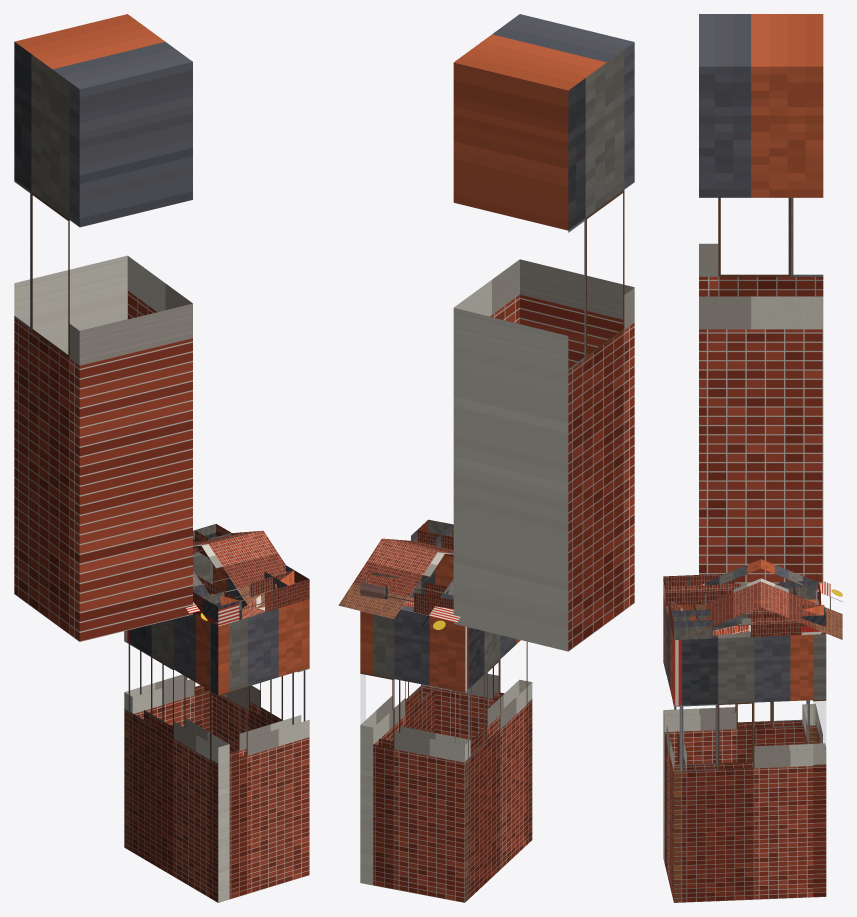
3 renders of one model, left to right at view 1: azimuth 30°, elevation 25°; view 2: azimuth 150°, elevation 25°; view 3: azimuth 270°, elevation 25°, orthographic. The views are drawn at different scales.
Visible parts, largest first — view 1: 238625181__chimney_0_xb, 238625181__wall_2_xb, 238625181__wall_1_xb, 238625181__wall_0_xb, 238625181_roof_-1_xb, 238625181__wall_3_xb, 238625181__cornice_2, 238625181__cornice_1; view 2: 238625181__chimney_0_xb, 238625181__wall_0_xb, 238625181__wall_1_xb, 238625181__wall_3_xb, 238625181_roof_1_xb, 238625181__wall_2_xb, 238625181__cornice_0, 238625181__cornice_3; view 3: 238625181__chimney_0_xb, 238625181__wall_3_xb, 238625181__wall_1_xb, 238625181__wall_0_xb, 238625181__cornice_3, 238625181_roof_1_xb, 238625181__wall_2_xb, 238625181__cornice_1, 238625181_roof_-1_xb, 238625181__cornice_0.
Part boxes in pixels (x1,y1,x2,y2): 238625181__chimney_0_xb: (14, 14, 192, 641); 238625181__wall_2_xb: (210, 599, 309, 902); 238625181__wall_1_xb: (124, 612, 229, 902); 238625181__wall_0_xb: (124, 552, 212, 733); 238625181_roof_-1_xb: (186, 530, 295, 620); 238625181__wall_3_xb: (205, 564, 309, 752); 238625181__cornice_2: (203, 570, 309, 624); 238625181__cornice_1: (193, 576, 239, 626); 238625181__chimney_0_xb: (453, 14, 634, 651); 238625181__wall_0_xb: (360, 606, 470, 902); 238625181__wall_1_xb: (452, 626, 532, 902); 238625181__wall_3_xb: (360, 569, 435, 885); 238625181_roof_1_xb: (338, 538, 460, 629); 238625181__wall_2_xb: (422, 555, 532, 844); 238625181__cornice_0: (367, 572, 453, 615); 238625181__cornice_3: (360, 519, 452, 598); 238625181__chimney_0_xb: (699, 14, 823, 585); 238625181__wall_3_xb: (672, 631, 826, 902); 238625181__wall_1_xb: (663, 596, 816, 862); 238625181__wall_0_xb: (802, 599, 826, 897); 238625181__cornice_3: (671, 605, 826, 639); 238625181_roof_1_xb: (761, 559, 842, 639); 238625181__wall_2_xb: (663, 602, 686, 902); 238625181__cornice_1: (663, 574, 817, 605); 238625181_roof_-1_xb: (680, 559, 760, 639); 238625181__cornice_0: (791, 574, 826, 634).
Size of the model in its own units: 0.287 by 1.05 by 0.2165.
1 material, 1 textured.
